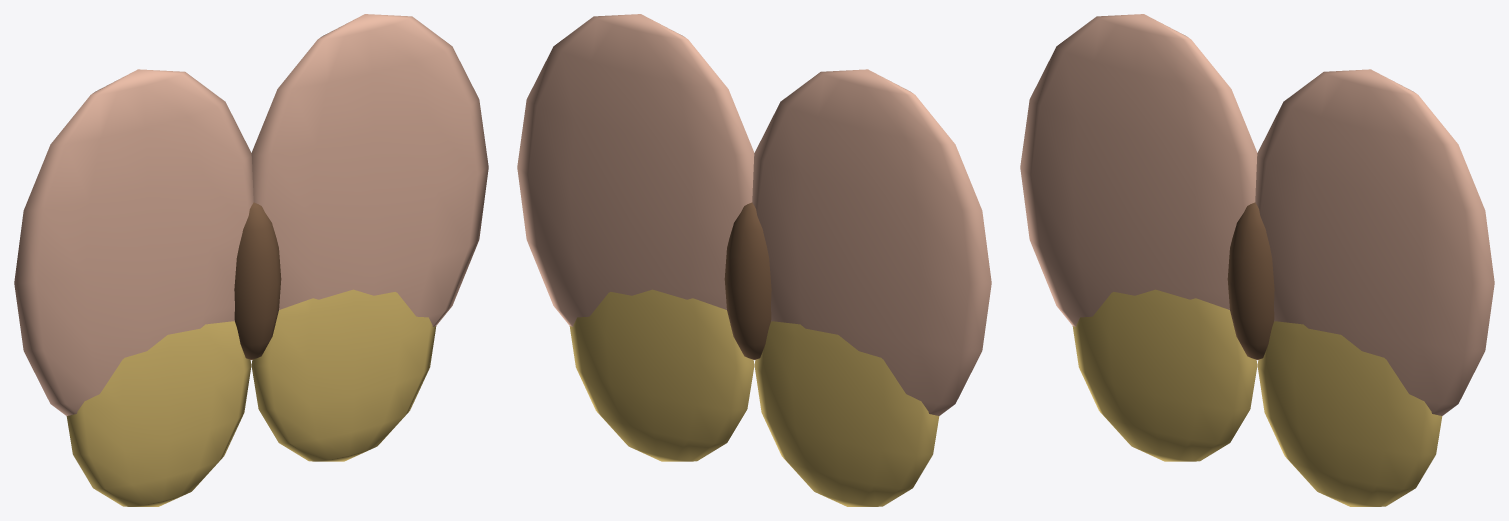
Rendered from butterfly.glb.
3 renders of one model, left to right at view 1: azimuth 30°, elevation 25°; view 2: azimuth 150°, elevation 25°; view 3: azimuth 330°, elevation 25°, orthographic.
Visible parts, largest first — view 1: butterfly_Left_Mesh, butterfly_Right_Mesh, Organic form; view 2: butterfly_Left_Mesh, butterfly_Right_Mesh, Organic form; view 3: butterfly_Right_Mesh, butterfly_Left_Mesh, Organic form.
Boxes of the visible parts, box(x1,y1,x2,y2) form: butterfly_Left_Mesh: box(14, 69, 253, 506); butterfly_Right_Mesh: box(251, 14, 488, 461); Organic form: box(234, 202, 281, 359); butterfly_Left_Mesh: box(752, 69, 991, 506); butterfly_Right_Mesh: box(517, 14, 754, 461); Organic form: box(724, 202, 771, 359); butterfly_Right_Mesh: box(1255, 69, 1494, 506); butterfly_Left_Mesh: box(1020, 14, 1257, 461); Organic form: box(1227, 202, 1274, 359).
Size of the model in its own units: 0.46 by 0.41 by 0.05.
